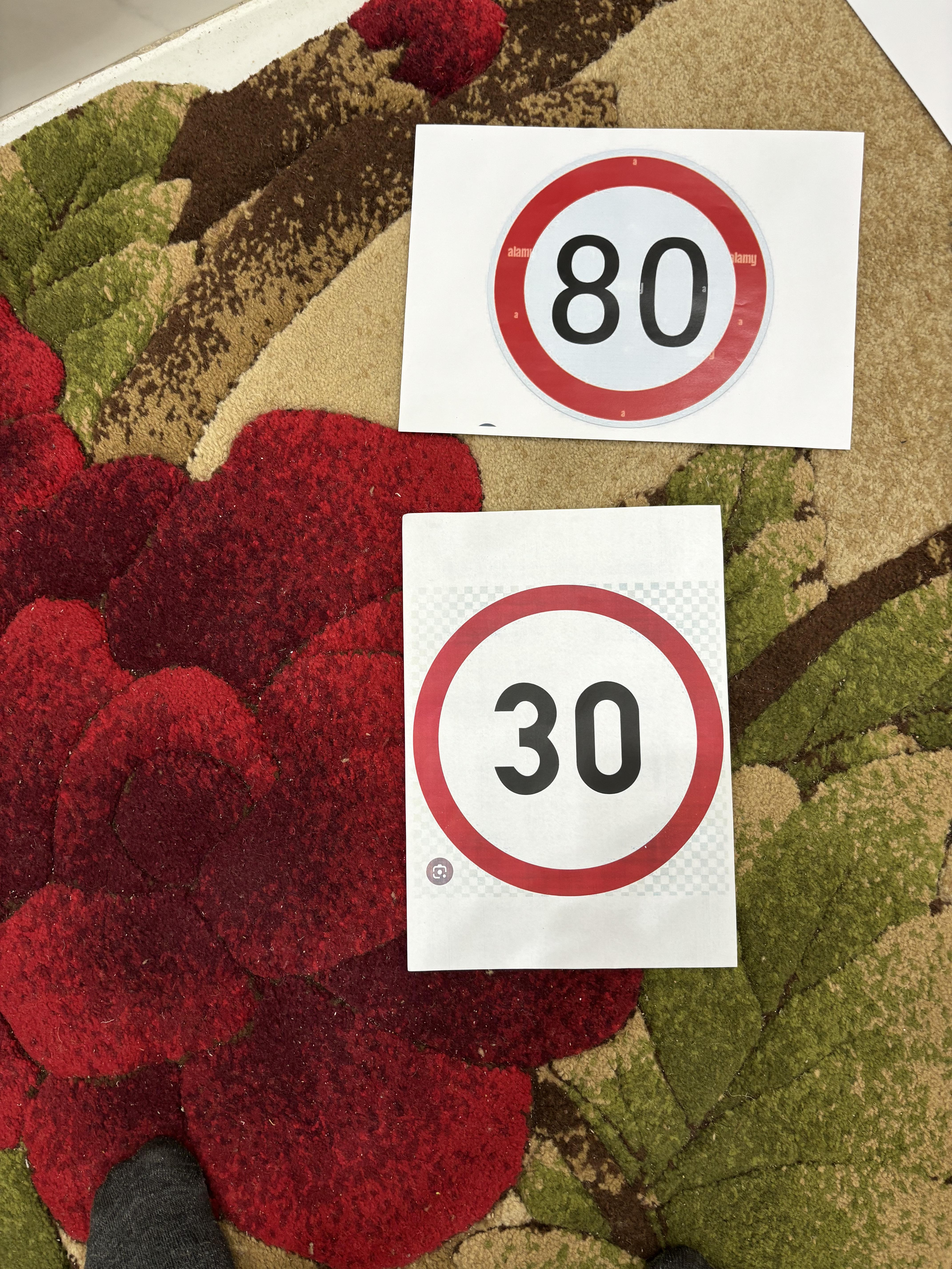30-speed: (405, 576, 737, 897)
80-Speed: (492, 147, 781, 429)
